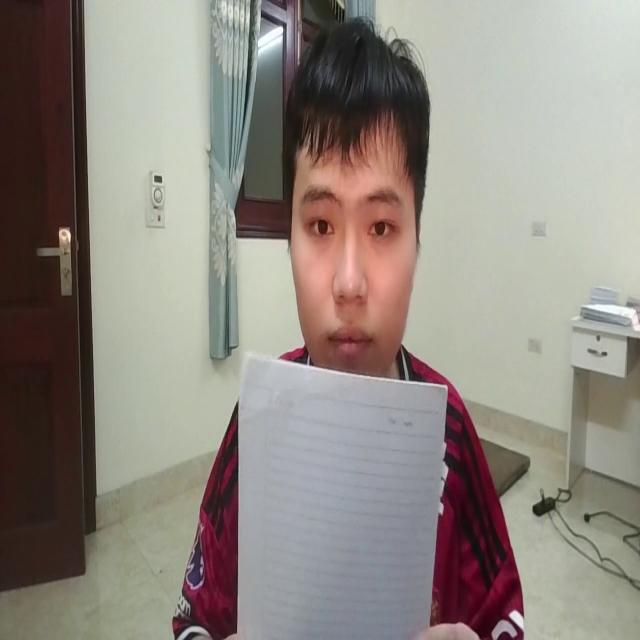book: (239, 339, 449, 640)
student: (184, 17, 526, 640)
